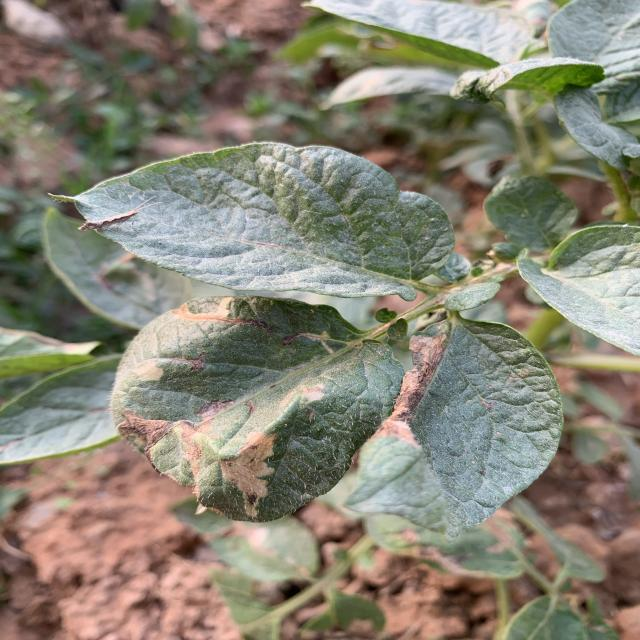lateblight: (112, 381, 277, 492), (372, 325, 450, 448)
